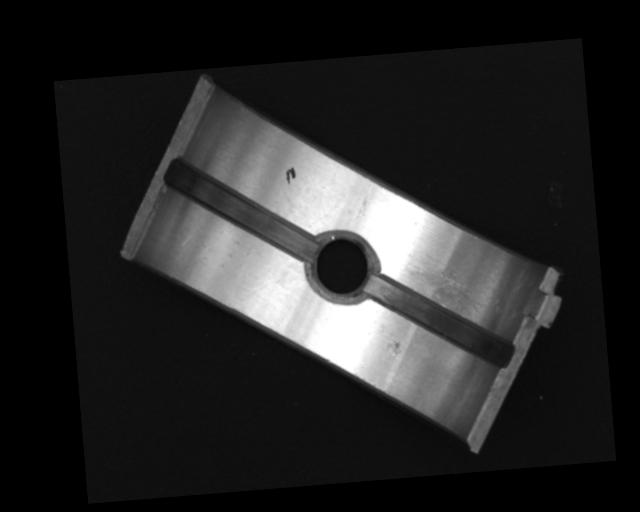blot: (284, 166, 297, 185)
bruise: (385, 339, 403, 358)
gap: (164, 148, 315, 271), (366, 266, 515, 379)
hole: (307, 229, 378, 306)
nick: (351, 180, 377, 220)
scratch: (402, 254, 486, 323)
